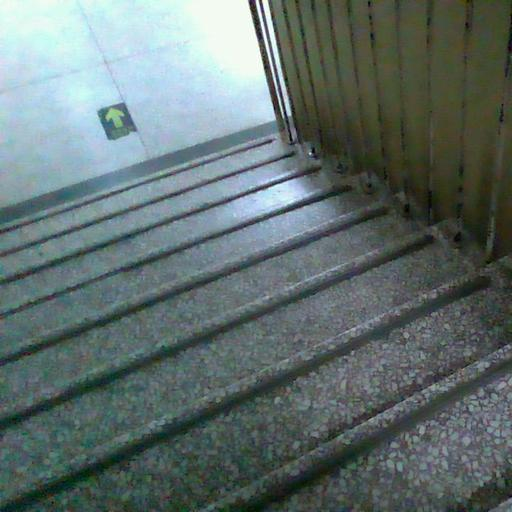stairs: (0, 138, 511, 511)
